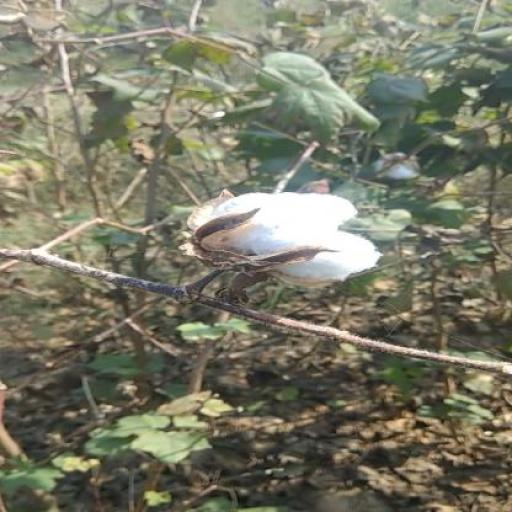cotton_ready: (157, 179, 394, 313)
